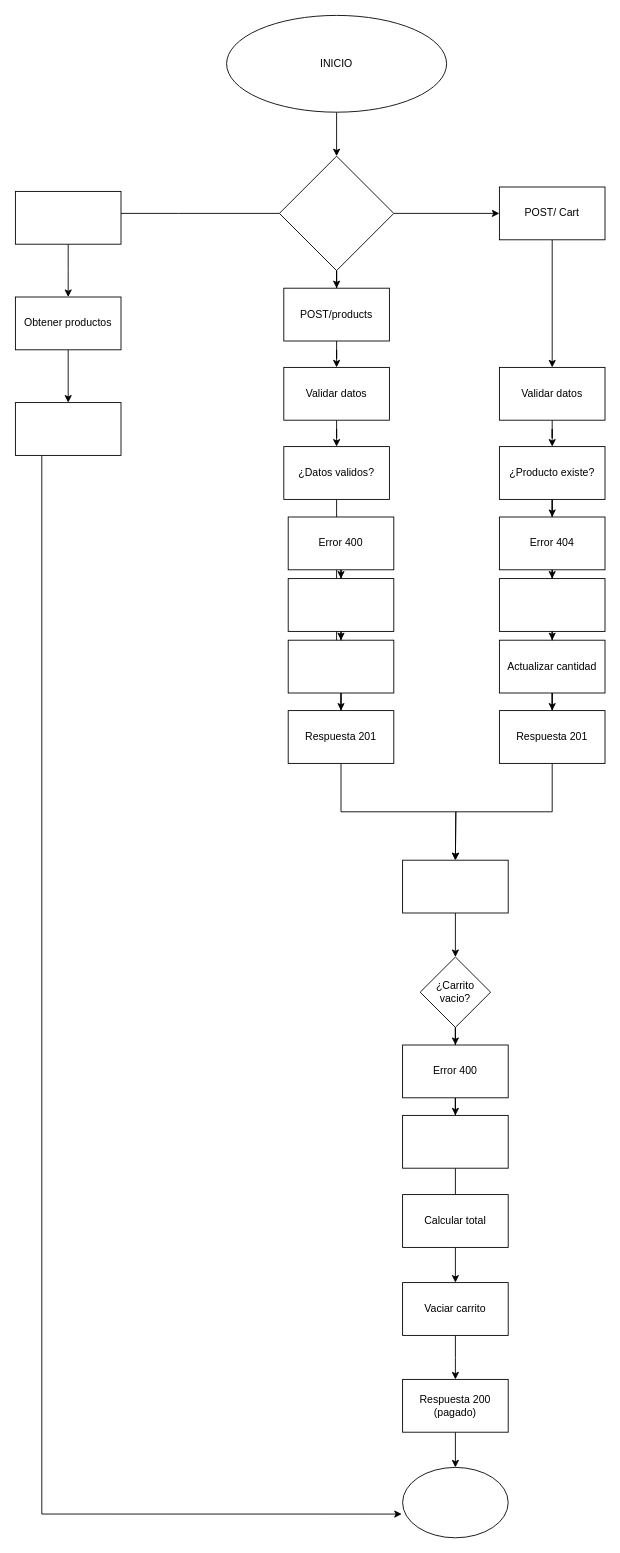
Some shapes in this 620 by 1553 pixel diagram are drawn without their labels. Each missing label, with the centre of its shape:
Agregar al carrito: (x=552, y=604)
Calcular subtotales: (x=455, y=1141)
Crear producto: (x=340, y=604)
FIN: (x=455, y=1502)
GET/products: (x=68, y=217)
Guardar en DB: (x=340, y=666)
POST/checkout: (x=455, y=886)
Respuesta 200: (x=68, y=428)
¿Peticion recibida?: (x=336, y=213)
